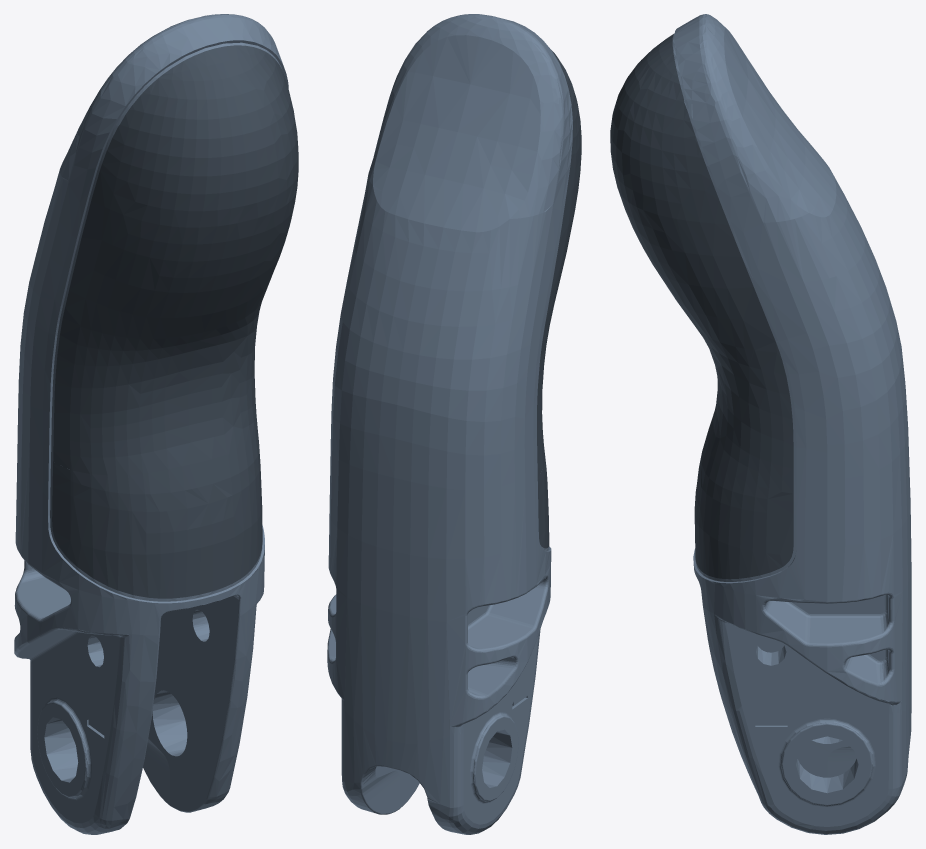
File: index_distal.glb
3 views of the same model, side by side, from view 1: azimuth 30°, elevation 25°; view 2: azimuth 150°, elevation 25°; view 3: azimuth 270°, elevation 25° (orthographic). The views are drawn at different scales.
Parts seen in each view (by area): view 1: L_index_dist; view 2: L_index_dist; view 3: L_index_dist.
Part boxes in pixels (x1,y1,x2,y2): L_index_dist: (14, 14, 298, 834); L_index_dist: (327, 14, 581, 834); L_index_dist: (610, 14, 911, 834).
Bounding box in the file's own units: 0.0148 × 0.0566 × 0.0197.
